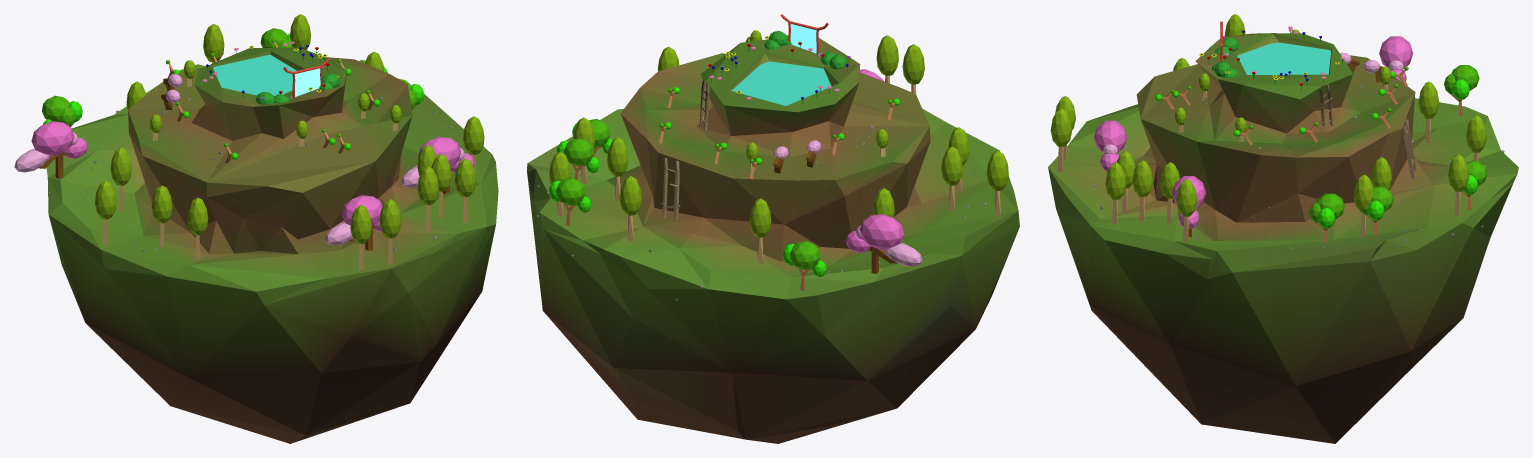
3 views of the same model, side by side, from view 1: azimuth 30°, elevation 25°; view 2: azimuth 150°, elevation 25°; view 3: azimuth 270°, elevation 25° (orthographic). The views are drawn at different scales.
Visible parts, largest first — view 1: Island.017, Water.017, Tree3 - 2.061, Tree3 - 2.059, Tree3 - 2.060, Tree1 - 2.080, Tree2 - 2.171, Tree2 - 2.177, Tree2 - 2.174, Tree2 - 2.176, Tree2 - 2.169, Tree2 - 2.164 (+8 smaller); view 2: Island.017, Water.017, Tree3 - 2.061, Tree1 - 2.080, Tree1 - 2.079, Tree1 - 2.078, Tree2 - 2.174, Tree2 - 2.167, Tree2 - 2.175, Tree2 - 2.168, Tree2 - 2.166, Tree2 - 2.177 (+8 smaller); view 3: Island.017, Water.017, Tree3 - 2.059, Tree3 - 2.061, Tree1 - 2.080, Tree1 - 2.077, Tree2 - 2.171, Tree2 - 2.172, Tree2 - 2.169, Tree1 - 2.078, Tree2 - 2.165, Tree2 - 2.175 (+8 smaller).
Boxes of the visible parts, x1,y1,x2,y2 form: Island.017: [46, 47, 498, 443]; Water.017: [213, 55, 296, 96]; Tree3 - 2.061: [14, 121, 87, 178]; Tree3 - 2.059: [325, 195, 382, 250]; Tree3 - 2.060: [401, 136, 474, 193]; Tree1 - 2.080: [42, 95, 82, 126]; Tree2 - 2.171: [379, 199, 401, 264]; Tree2 - 2.177: [350, 205, 371, 270]; Tree2 - 2.174: [95, 180, 116, 245]; Tree2 - 2.176: [417, 166, 438, 231]; Tree2 - 2.169: [454, 158, 475, 222]; Tree2 - 2.164: [110, 147, 131, 211]; Island.017: [527, 38, 1019, 443]; Water.017: [731, 61, 831, 105]; Tree3 - 2.061: [845, 214, 922, 273]; Tree1 - 2.080: [782, 241, 826, 290]; Tree1 - 2.079: [549, 177, 591, 225]; Tree1 - 2.078: [556, 138, 599, 180]; Tree2 - 2.174: [986, 150, 1008, 216]; Tree2 - 2.167: [619, 175, 641, 241]; Tree2 - 2.175: [749, 198, 771, 263]; Tree2 - 2.168: [941, 146, 962, 210]; Tree2 - 2.166: [607, 137, 628, 201]; Tree2 - 2.177: [902, 44, 924, 94]; Island.017: [1048, 33, 1518, 443]; Water.017: [1237, 42, 1331, 74]; Tree3 - 2.059: [1094, 120, 1127, 171]; Tree3 - 2.061: [1379, 36, 1413, 81]; Tree1 - 2.080: [1444, 65, 1479, 115]; Tree1 - 2.077: [1309, 193, 1344, 243]; Tree2 - 2.171: [1050, 108, 1072, 171]; Tree2 - 2.172: [1176, 179, 1197, 241]; Tree2 - 2.169: [1105, 162, 1126, 224]; Tree1 - 2.078: [1362, 186, 1393, 235]; Tree2 - 2.165: [1448, 154, 1468, 215]; Tree2 - 2.175: [1418, 81, 1439, 142].
Bounding box in the file's own units: 41.96 × 39.87 × 43.73.
